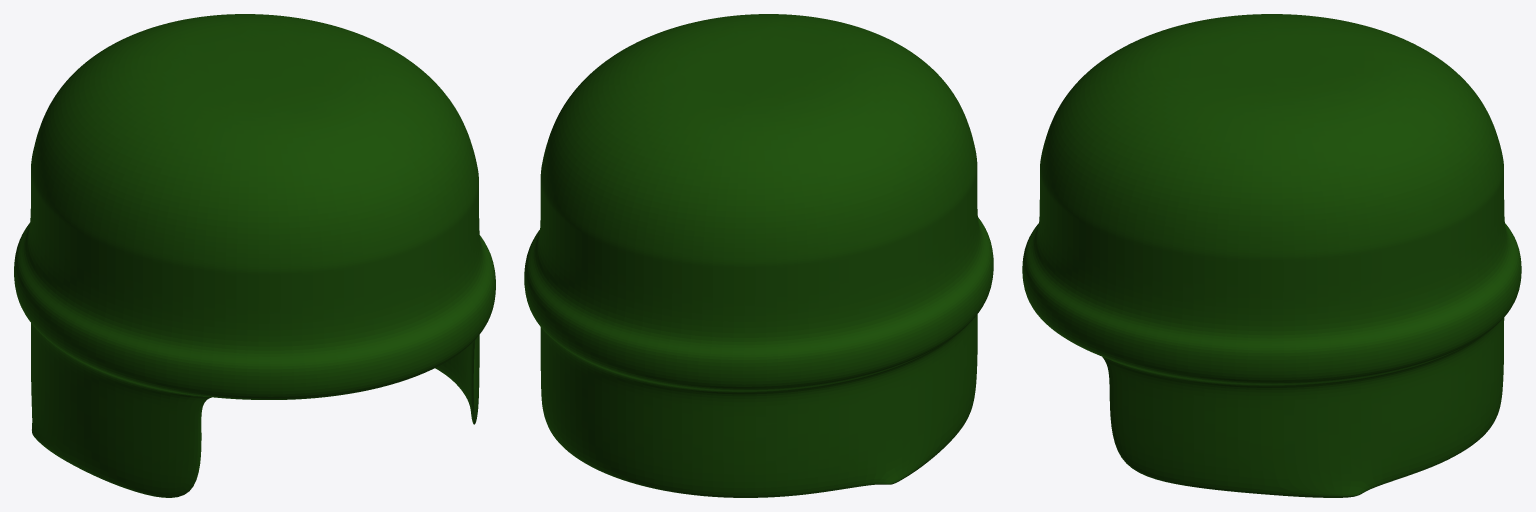
Rendered from Br_Shlem_1.fbx.
3 renders of one model, left to right at view 1: azimuth 30°, elevation 25°; view 2: azimuth 150°, elevation 25°; view 3: azimuth 270°, elevation 25°, orthographic. The views are drawn at different scales.
Visible parts, largest first — view 1: Shlem_0011; view 2: Shlem_0011; view 3: Shlem_0011.
Part boxes in pixels (left/top/right/bottom): Shlem_0011: left=14, top=14, right=495, bottom=497; Shlem_0011: left=524, top=14, right=993, bottom=497; Shlem_0011: left=1022, top=14, right=1521, bottom=497.
Bounding box in the file's own units: 22.34 × 18.68 × 24.06.
